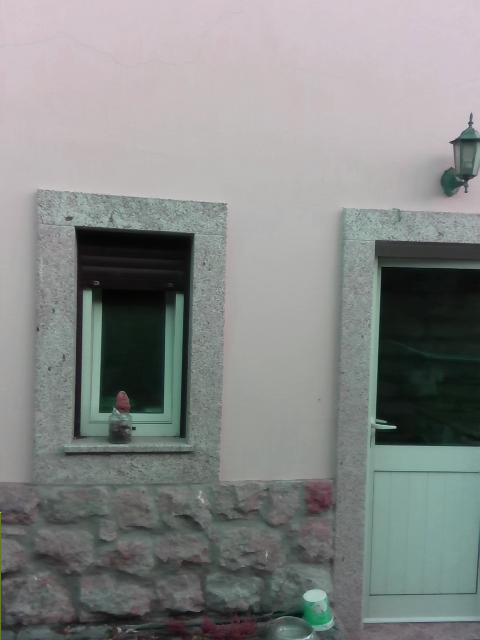closed_door: (360, 240, 479, 620)
